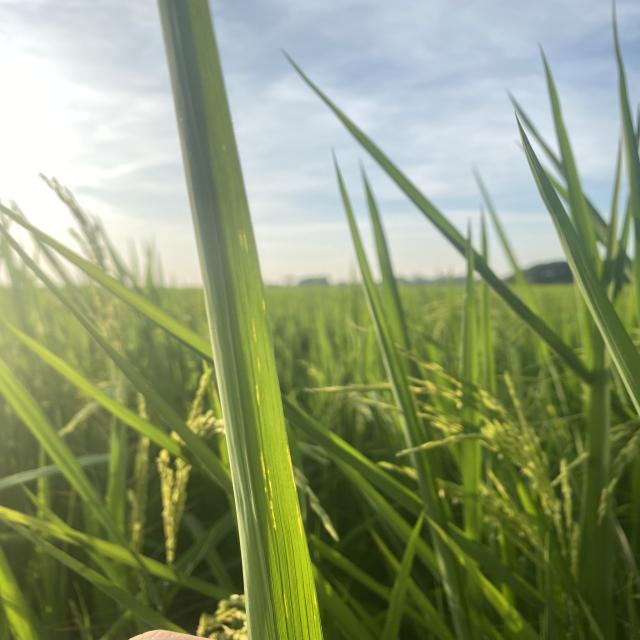Dom soc vi khuan: (286, 447, 297, 496), (268, 499, 277, 530), (296, 504, 303, 539), (259, 451, 267, 481), (255, 385, 260, 405)
